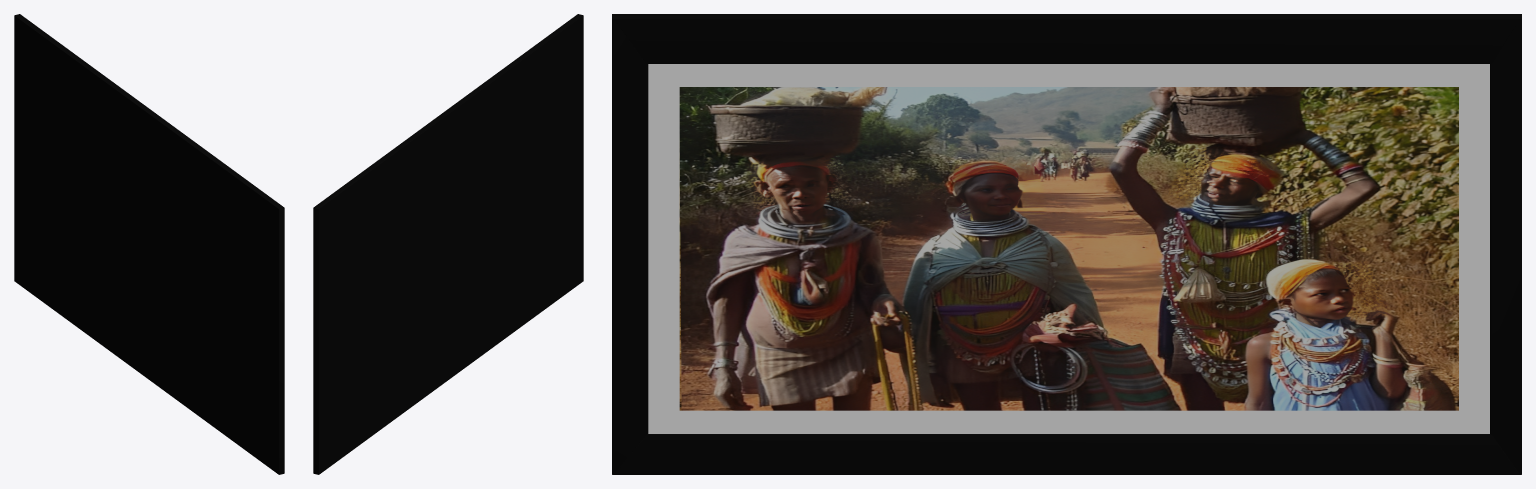
The model's file is Frame7.fbx.
3 views of the same model, side by side, from view 1: azimuth 30°, elevation 25°; view 2: azimuth 150°, elevation 25°; view 3: azimuth 270°, elevation 25° (orthographic). The views are drawn at different scales.
Visible parts, largest first — view 1: Box046.001; view 2: Box046.001; view 3: Box046.001.
Boxes of the visible parts, bbox=[...] form: Box046.001: bbox=[14, 14, 284, 474]; Box046.001: bbox=[313, 14, 583, 474]; Box046.001: bbox=[612, 14, 1521, 474].
Bounding box in the file's own units: 6.3 × 269 × 486.
Materials: 3 (1 with a texture image).
